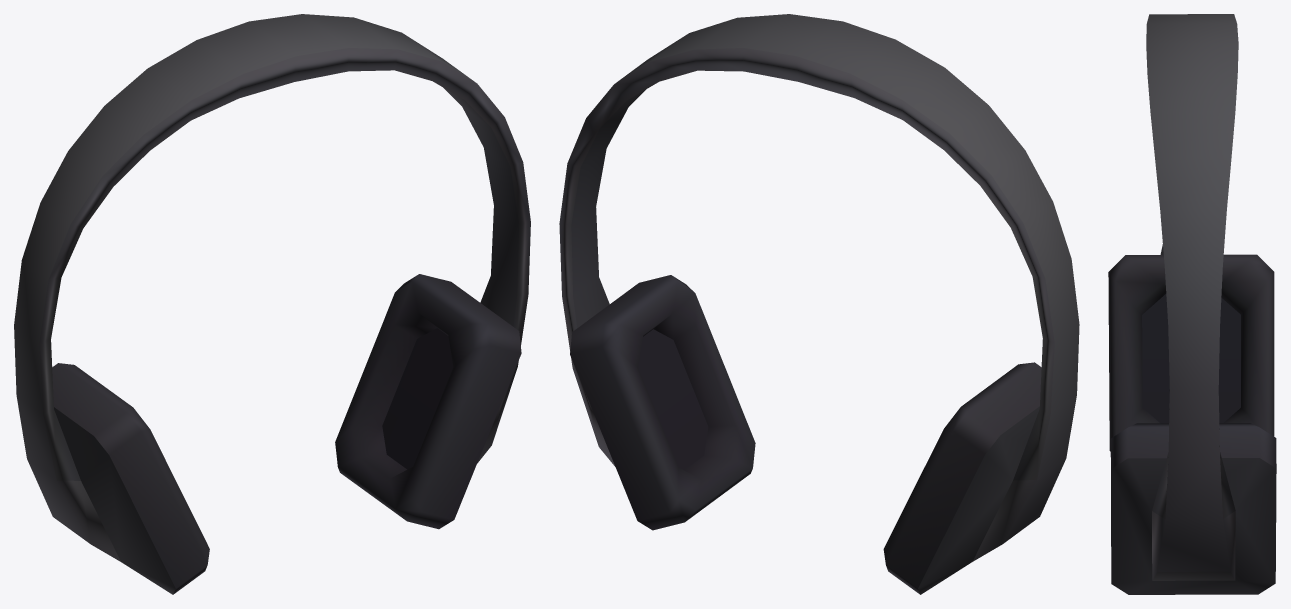
Rendered from headphones.fbx.
3 views of the same model, side by side, from view 1: azimuth 30°, elevation 25°; view 2: azimuth 150°, elevation 25°; view 3: azimuth 270°, elevation 25° (orthographic). The views are drawn at different scales.
Visible parts, largest first — view 1: headphones; view 2: headphones; view 3: headphones.
Part boxes in pixels (x1,y1,x2,y2): headphones: (14, 14, 530, 594); headphones: (559, 14, 1079, 594); headphones: (1108, 14, 1276, 594).
Size of the model in its own units: 18.02 by 17.42 by 5.44.
